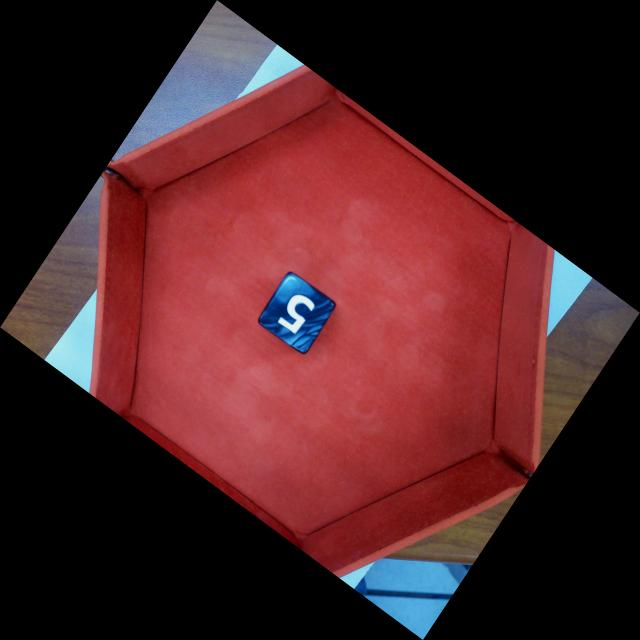dice: (255, 271, 332, 354)
